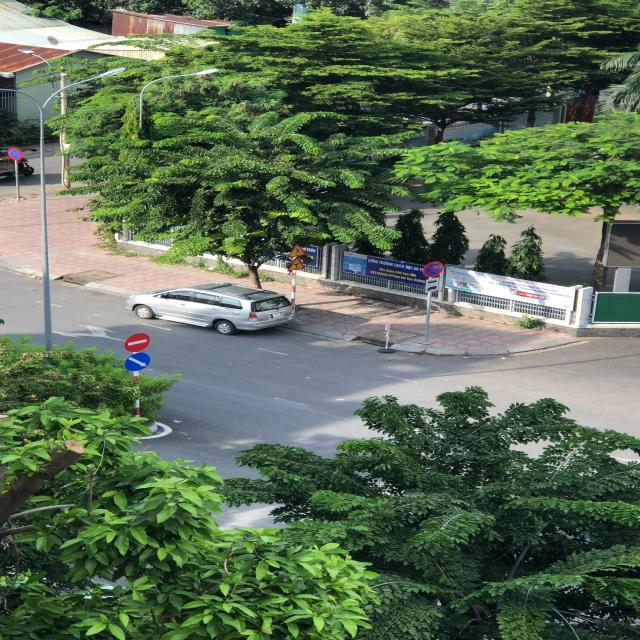Bien bao cam di nguoc chieu: (123, 331, 156, 354)
Bien bao duong giao nhau: (286, 257, 309, 272)
Bien bao duong nguoi di bo cat ngang: (286, 242, 310, 258)
Bien bao huong phai di vong chuong ngai vat: (122, 352, 156, 372)
